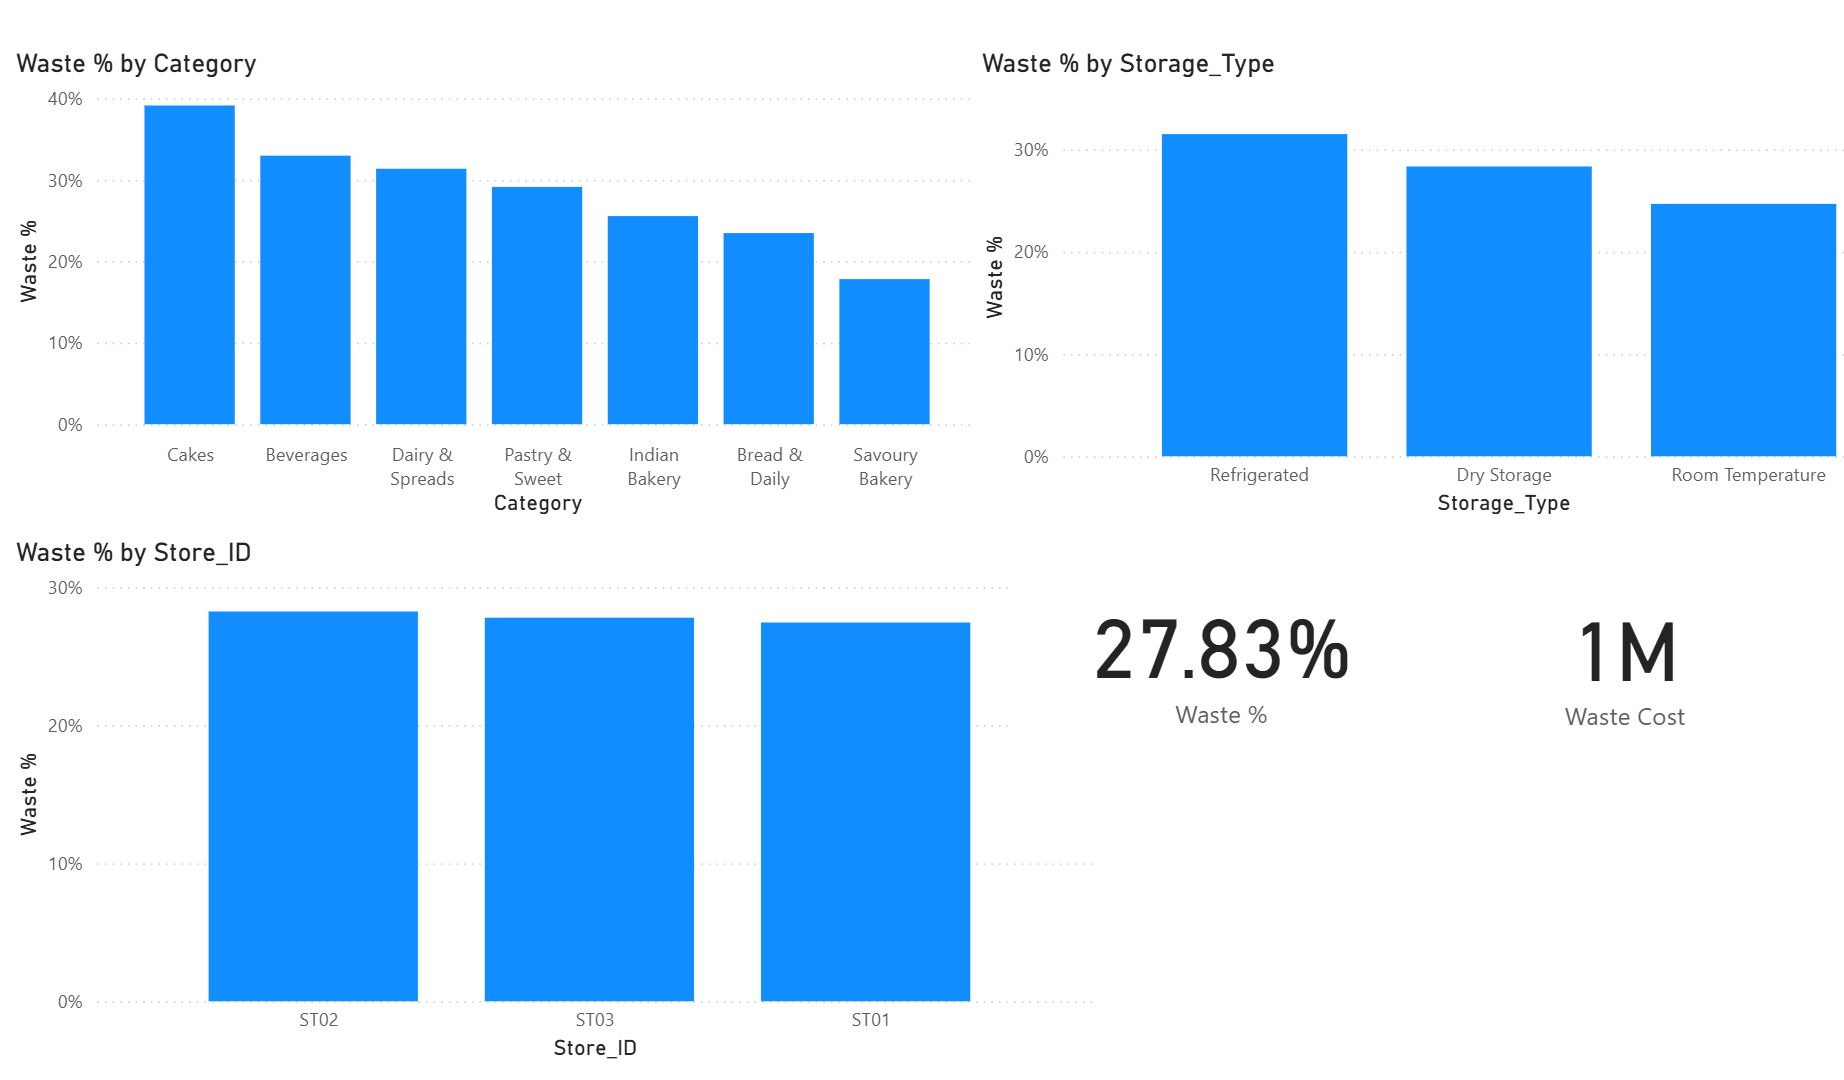

Layout of this report page (visuals, bound fields, positions):
{"tool":"powerbi","page":{"name":"Waste & Operations","canvas":[1280,720],"ordinal":5},"visuals":[{"type":"columnChart","fields":{"Category":["FactSales.Category"],"Y":["DimDate.Waste %"]},"box":[7.9,36,640,310.2],"z":0},{"type":"columnChart","fields":{"Y":["DimDate.Waste %"],"Category":["FactSales.Storage_Type"]},"box":[640,36,640,310.2],"z":1000},{"type":"columnChart","fields":{"Y":["DimDate.Waste %"],"Category":["FactSales.Store_ID"]},"box":[7.9,356,714.6,346.8],"z":2000},{"type":"card","fields":{"Values":["DimDate.Waste %"]},"box":[664.2,346.2,275.5,173.4],"z":3000},{"type":"card","fields":{"Values":["DimDate.Waste Cost"]},"box":[960,359.9,212,149.2],"z":4000}]}

Visuals, with their boxes on the page's 1280x720 design canvas (x1, y1, x2, y2). These are canvas units, not pixel positions in the 1844x1080 screenshot, which may show the page scaled, cropped or inside an application window:
columnChart - FactSales.Category x DimDate.Waste %: l=8, t=36, r=648, b=346
columnChart - DimDate.Waste % x FactSales.Storage_Type: l=640, t=36, r=1280, b=346
columnChart - DimDate.Waste % x FactSales.Store_ID: l=8, t=356, r=722, b=703
card - DimDate.Waste %: l=664, t=346, r=940, b=520
card - DimDate.Waste Cost: l=960, t=360, r=1172, b=509
